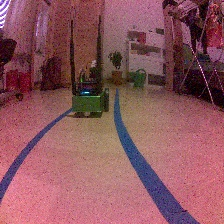rob: (70, 59, 109, 116)
